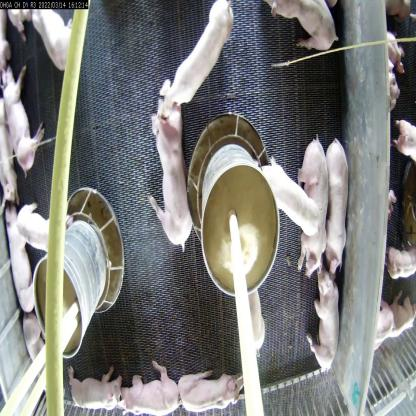Pig: (162, 1, 238, 103), (148, 86, 194, 251), (0, 56, 47, 176), (263, 148, 317, 242), (265, 0, 337, 56), (301, 131, 327, 284), (306, 270, 343, 376), (23, 7, 79, 75), (231, 284, 274, 371), (181, 369, 256, 416), (120, 363, 187, 415), (1, 214, 33, 316), (70, 365, 130, 415), (327, 131, 348, 273), (21, 313, 57, 390), (16, 197, 60, 253), (0, 105, 23, 210)
